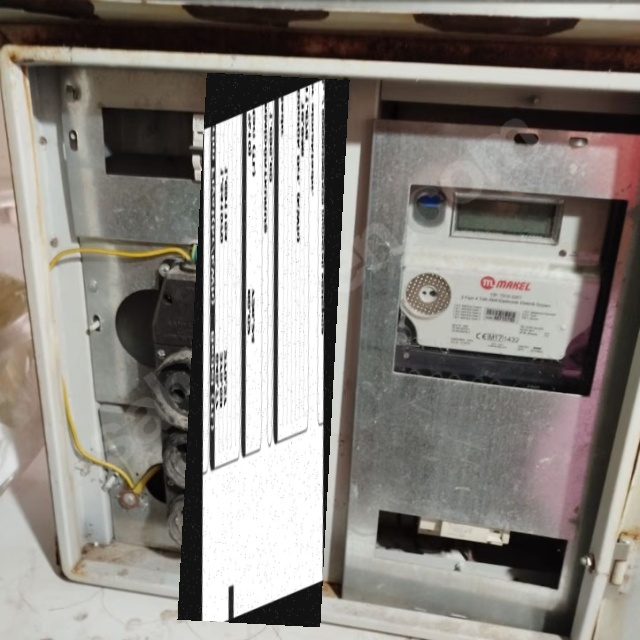electricity-bill: (177, 73, 350, 627)
